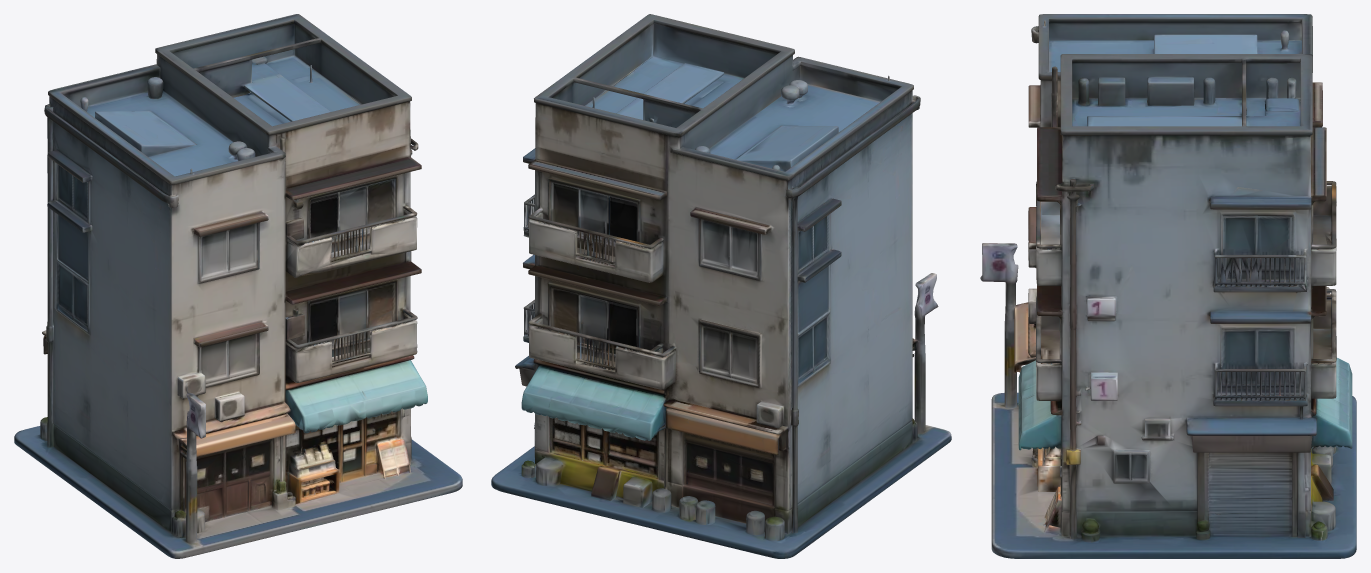
The model's file is building-1.glb.
3 views of the same model, side by side, from view 1: azimuth 30°, elevation 25°; view 2: azimuth 150°, elevation 25°; view 3: azimuth 270°, elevation 25° (orthographic). The views are drawn at different scales.
Parts seen in each view (by area): view 1: node_0; view 2: node_0; view 3: node_0.
Boxes of the visible parts, x1,y1,x2,y2 form: node_0: (14, 14, 462, 558); node_0: (491, 14, 951, 558); node_0: (980, 14, 1356, 558).
Size of the model in its own units: 0.659 by 0.7956 by 0.6562.
Materials: 1 (1 with a texture image).
